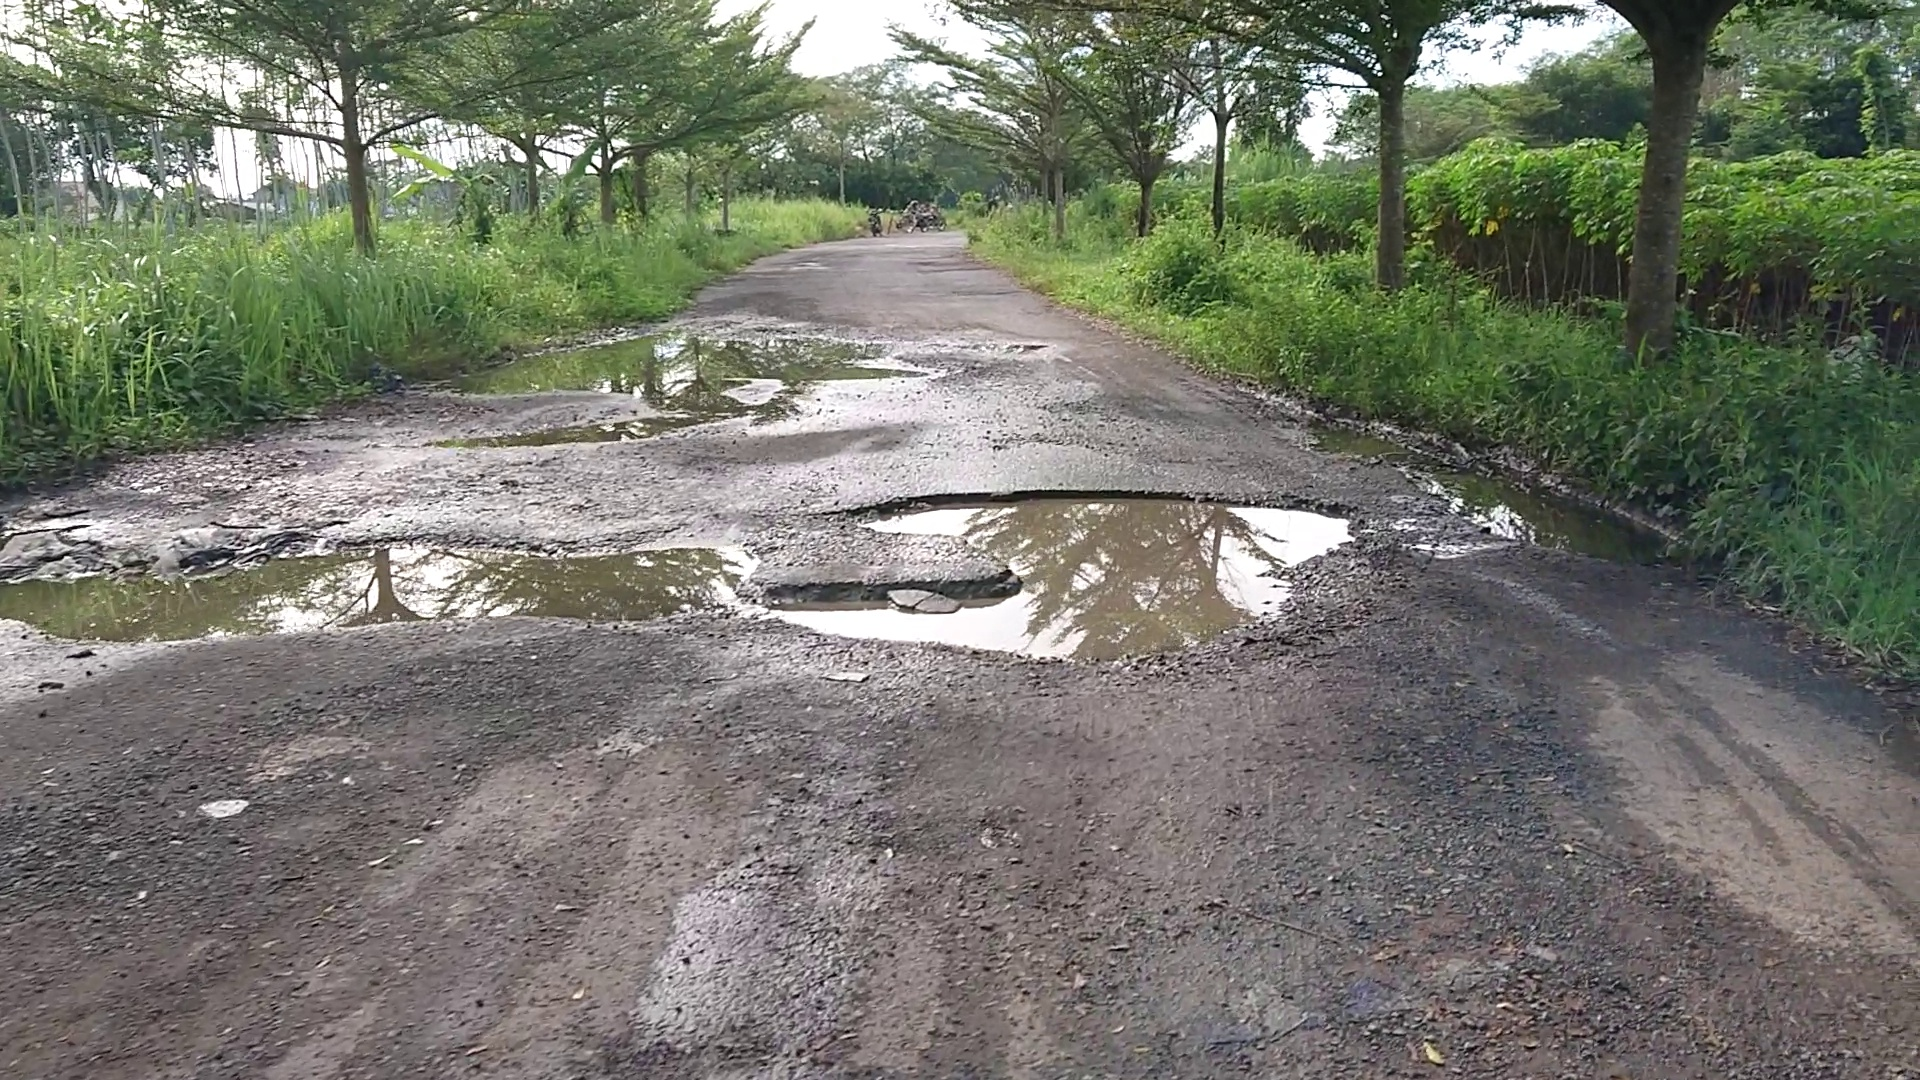Berlubang: (774, 480, 1408, 670), (18, 535, 758, 638), (447, 323, 924, 438)
